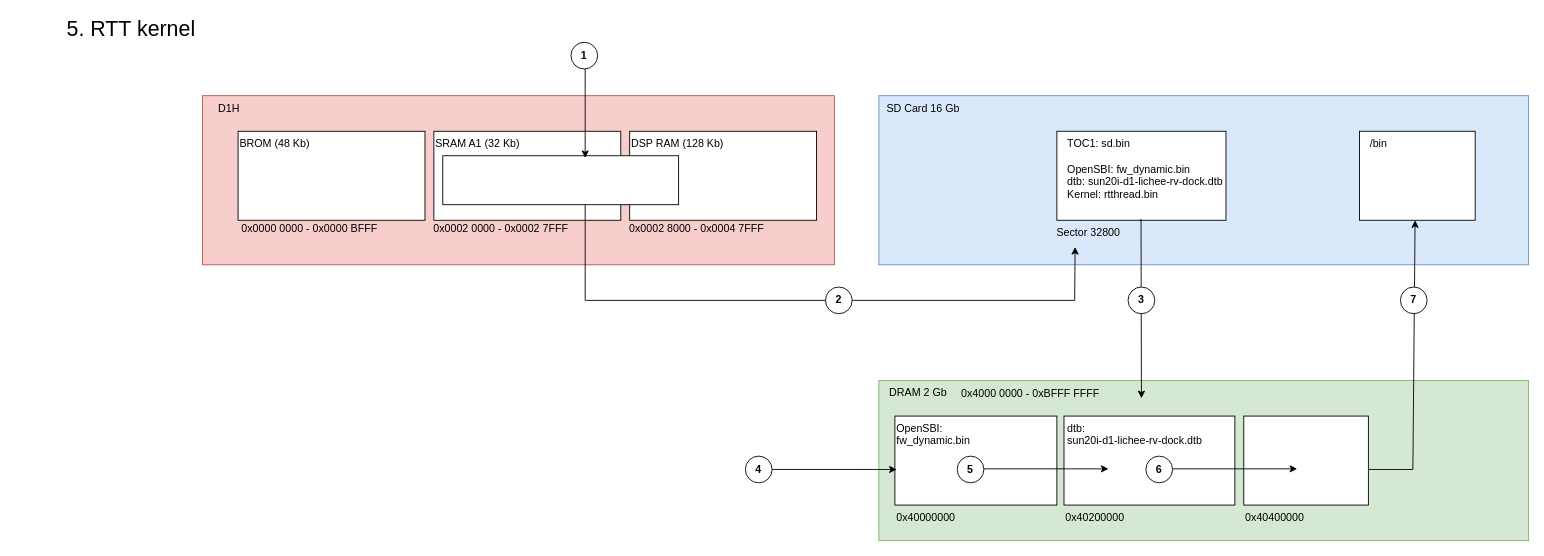
The diagram is 1544 pixels wide and 556 high, and some of its shapes have lost their labels. The shapes that lost their labels are listed below. From the top down, each one's centre as x and y in pixels, then its label:
At pixel 560 180: "sun20i_d1_spl: boot0_sdcard_sun20iw1p1.bin".
At pixel 1305 460: "Kernel: rtthread.bin".
